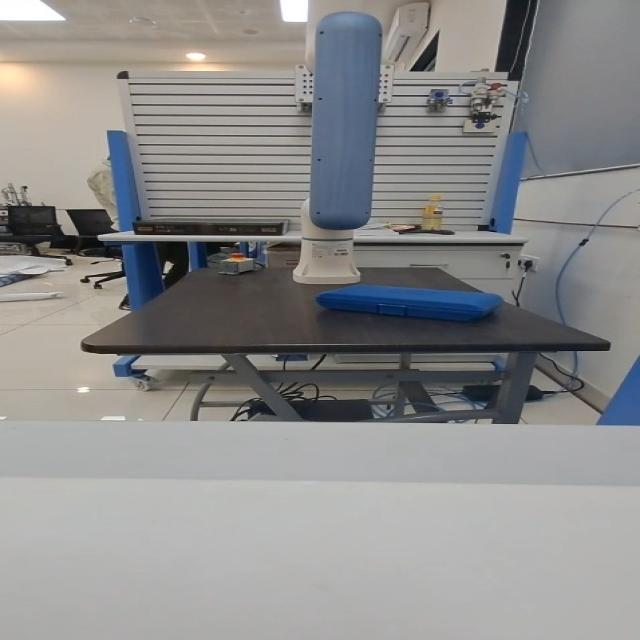top-surface: (342, 285, 476, 301)
